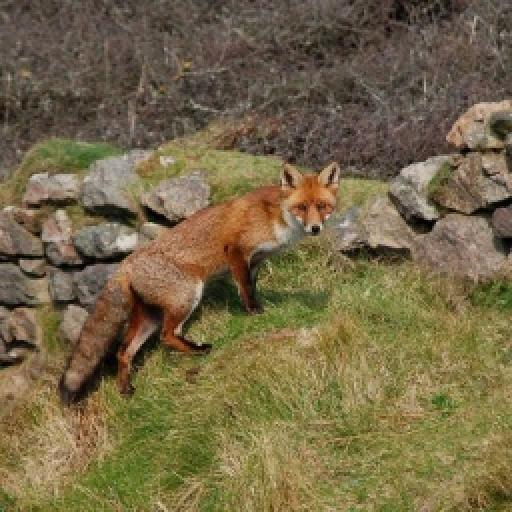zorro: (60, 162, 338, 402)
